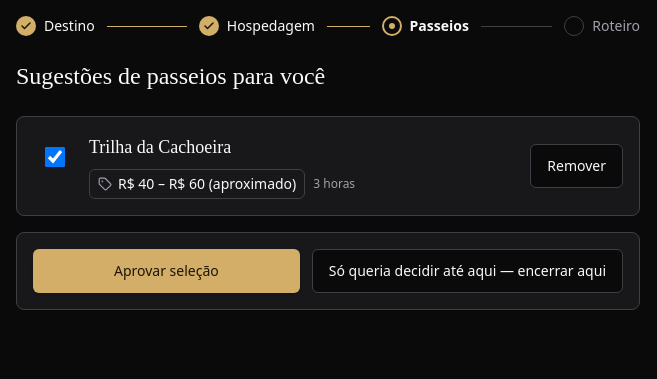
it: PasseiosSugestoesScreen — estado Sucesso › critério de aceite: desmarcar todos os checkboxes também desabilita 'Aprovar seleção' com a mesma mensagem
Expected: the text "Trilha da Cachoeira" is shown, [89,137,231,157]
Click the checkbox: (55, 157) [45,147,65,167]
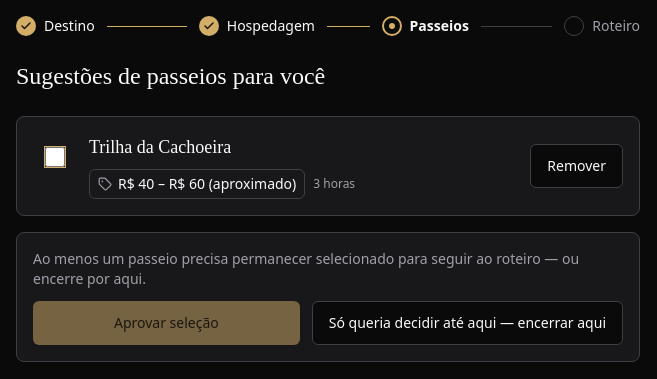
Now the button "Aprovar seleção" is disabled, box [33,301,300,345]
Now the text "Ao menos um passeio precisa permanecer selecionado para seguir ao roteiro — ou encerre por aqui." is shown, box [33,249,579,288]
